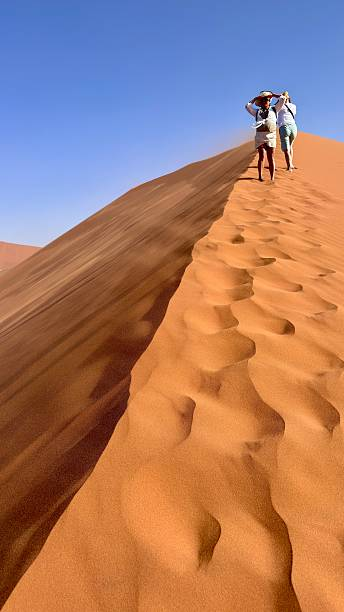human_foot_print: (112, 469, 228, 590), (216, 464, 300, 570), (136, 388, 208, 450), (296, 350, 338, 450), (192, 260, 259, 306), (225, 392, 275, 443), (200, 337, 255, 375), (241, 305, 300, 337), (236, 238, 286, 268), (265, 272, 311, 304), (198, 306, 247, 333)
